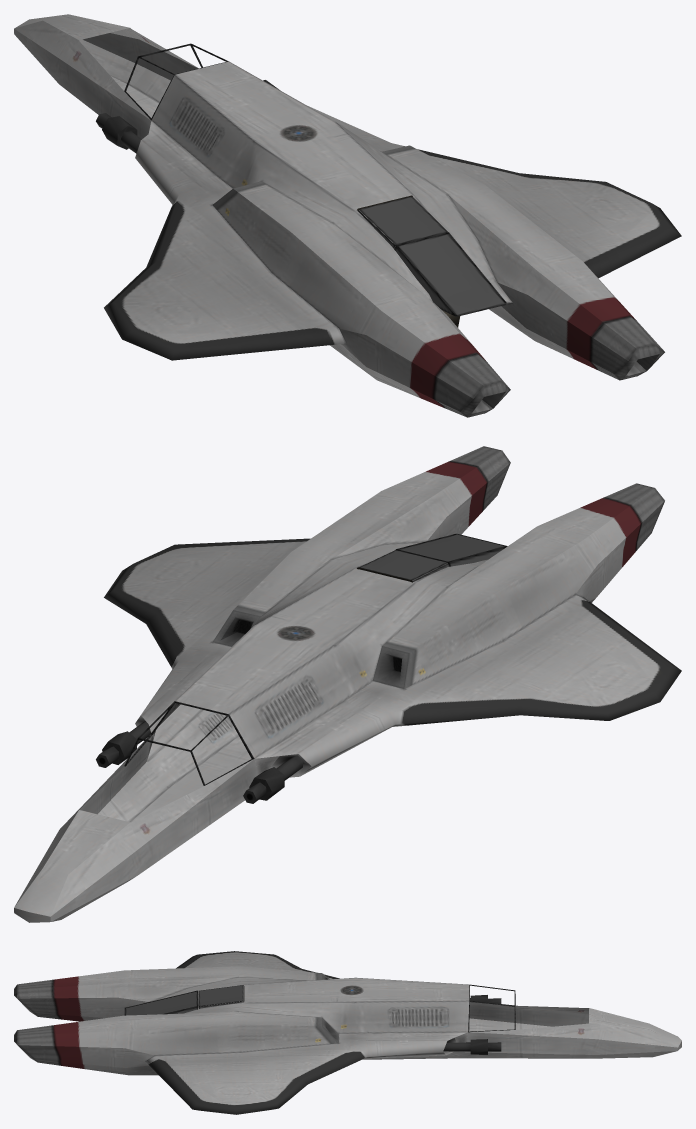
Rendered from fighter.obj.
The picture shows the model from 3 angles, top to bottom: view 1: azimuth 30°, elevation 25°; view 2: azimuth 150°, elevation 25°; view 3: azimuth 270°, elevation 25°; orthographic projection. The views are drawn at different scales.
Visible parts, largest first — view 1: object_1, object_4; view 2: object_1, object_4; view 3: object_1, object_4.
Part boxes in pixels (left/top/right/bottom): object_1: left=14, top=14, right=681, bottom=417; object_4: left=358, top=196, right=505, bottom=316; object_1: left=14, top=446, right=681, bottom=922; object_4: left=359, top=534, right=505, bottom=581; object_1: left=14, top=951, right=681, bottom=1114; object_4: left=125, top=985, right=243, bottom=1015.
Bounding box in the file's own units: 7.09 × 1.32 × 12.38.
Materials: 3 (3 with a texture image).
